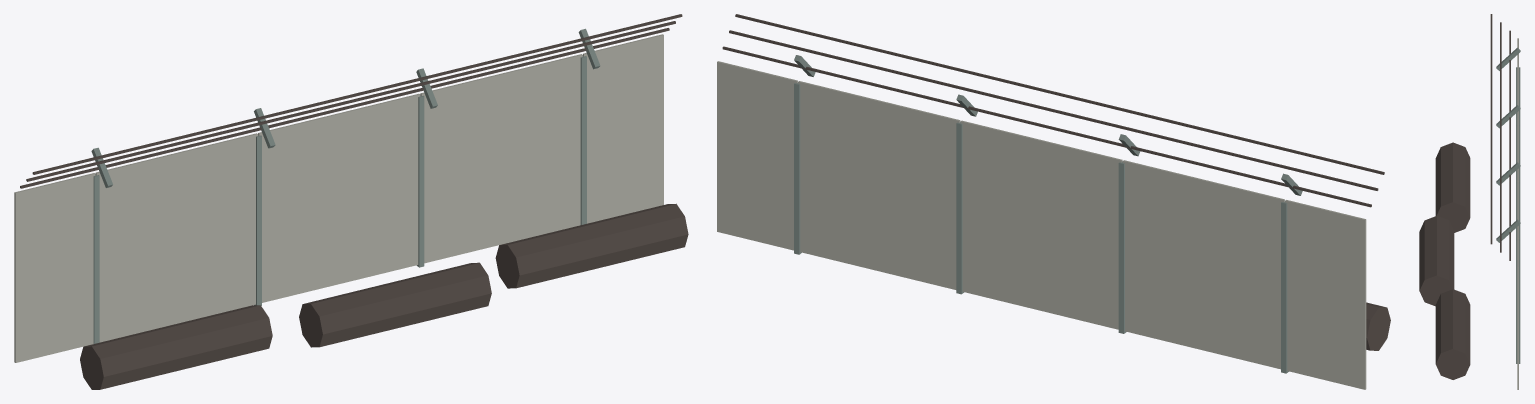
The model's file is SM_VallaBase_v4_LOD0.fbx.
3 renders of one model, left to right at view 1: azimuth 30°, elevation 25°; view 2: azimuth 150°, elevation 25°; view 3: azimuth 270°, elevation 25°, orthographic. The views are drawn at different scales.
Parts seen in each view (by area): view 1: SM_valla_base_v4_LOD0; view 2: SM_valla_base_v4_LOD0; view 3: SM_valla_base_v4_LOD0.
Boxes of the visible parts, x1,y1,x2,y2 form: SM_valla_base_v4_LOD0: (14,14,688,389); SM_valla_base_v4_LOD0: (717,14,1390,389); SM_valla_base_v4_LOD0: (1419,14,1520,389).
Bounding box in the file's own units: 9.98 × 3.03 × 1.86.
